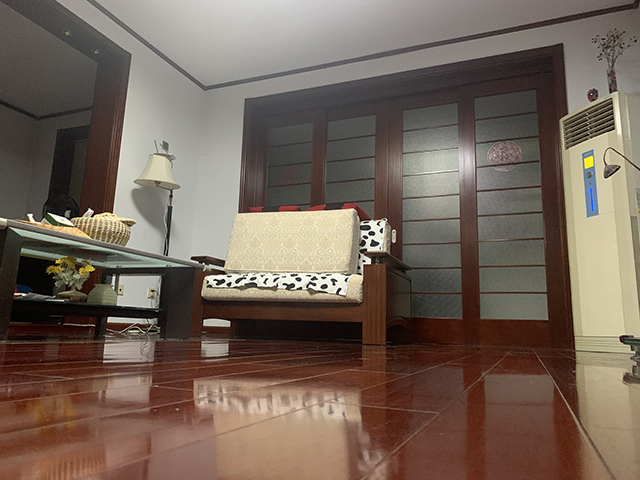sofa: (163, 201, 414, 348)
table: (1, 207, 207, 341)
wire: (107, 198, 170, 338)
